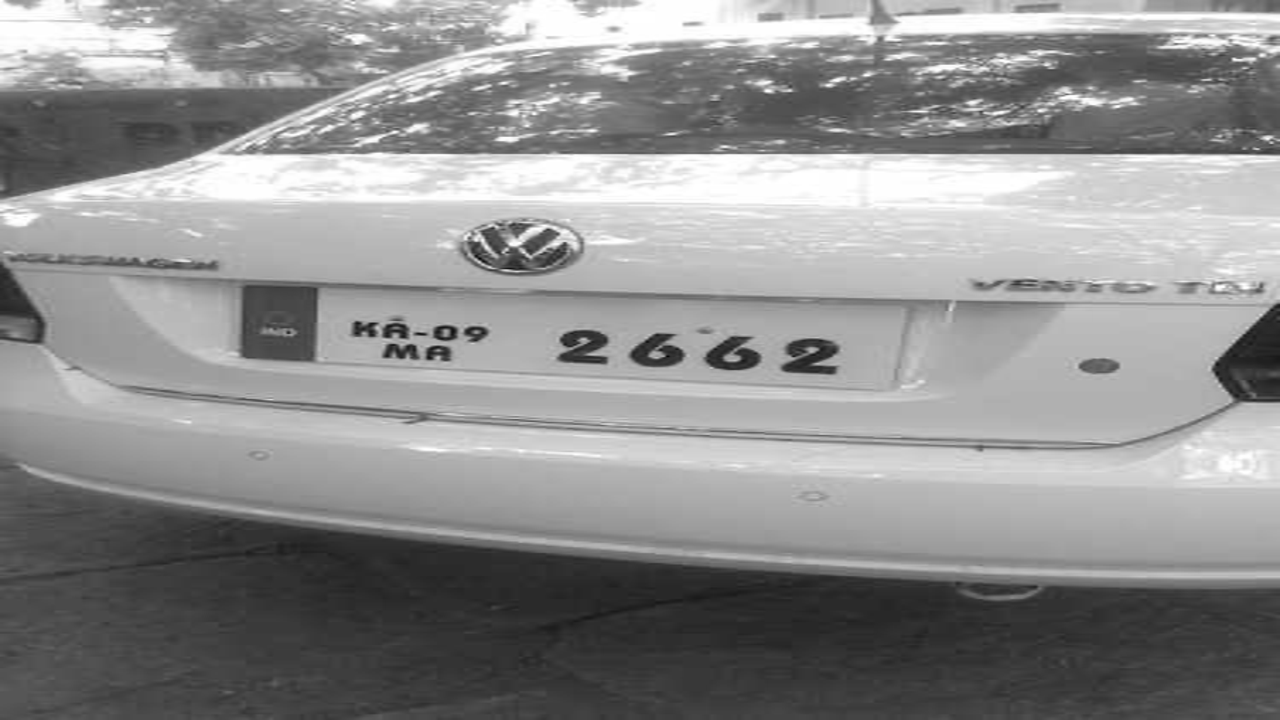license: (232, 278, 913, 402)
